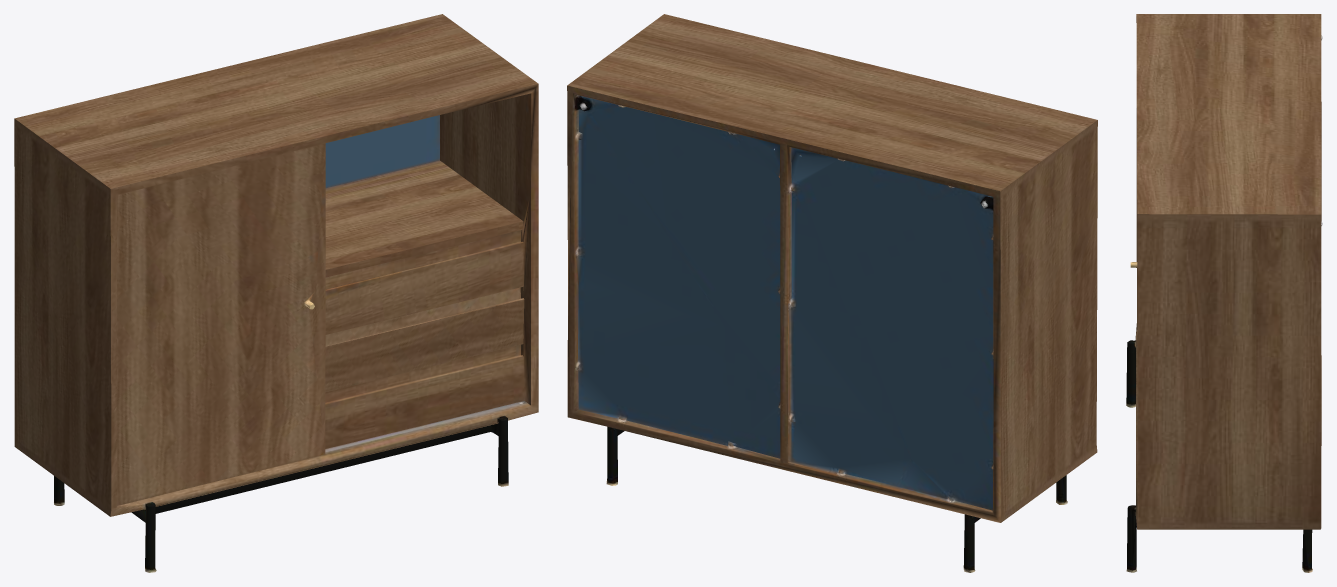
The model's file is 18 - RÅDMANSÖ Cabinet - brown walnut effect 118x49x103 cm.glb.
The picture shows the model from 3 angles, left to right: view 1: azimuth 30°, elevation 25°; view 2: azimuth 150°, elevation 25°; view 3: azimuth 270°, elevation 25°; orthographic projection. The views are drawn at different scales.
Parts seen in each view (by area): view 1: Plane001; view 2: Plane001; view 3: Plane001.
Part boxes in pixels (<box>): Plane001: <box>14,14,538,572</box>; Plane001: <box>567,14,1097,572</box>; Plane001: <box>1126,14,1322,572</box>.
Size of the model in its own units: 1.18 by 1.03 by 0.4893.
1 material, 1 textured.
